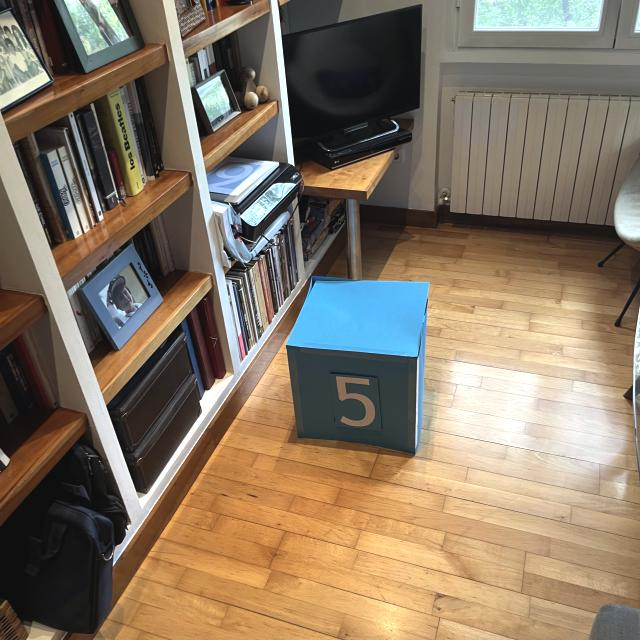box: (281, 270, 433, 457)
